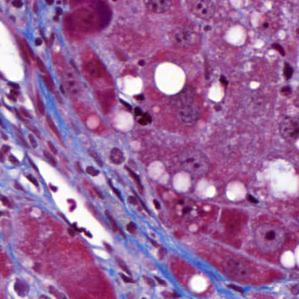inflammation: (116, 89, 157, 128), (268, 38, 298, 84)
